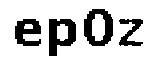0: (83, 5, 113, 48)
e: (14, 17, 44, 48)
p: (47, 16, 79, 59)
z: (117, 15, 145, 49)
